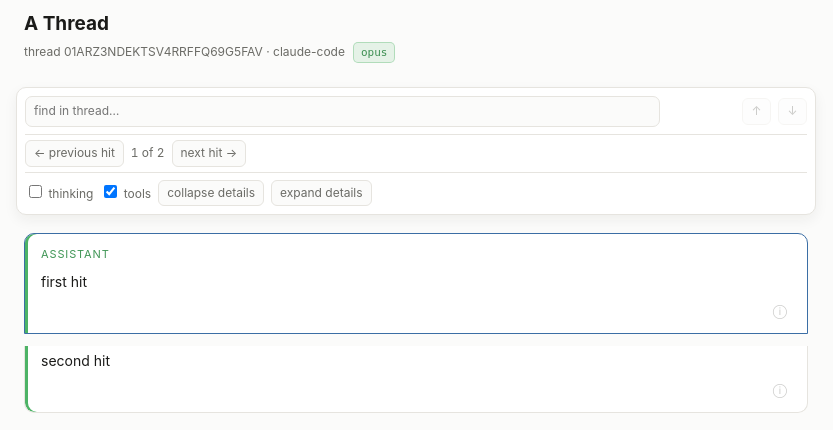
ThreadView › moves through the exact search-hit events carried by the result link
Expected: the text "1 of 2" is shown, [131,144,164,163]
Click the button "next hit →" at (209, 153), box [172,140,246,167]
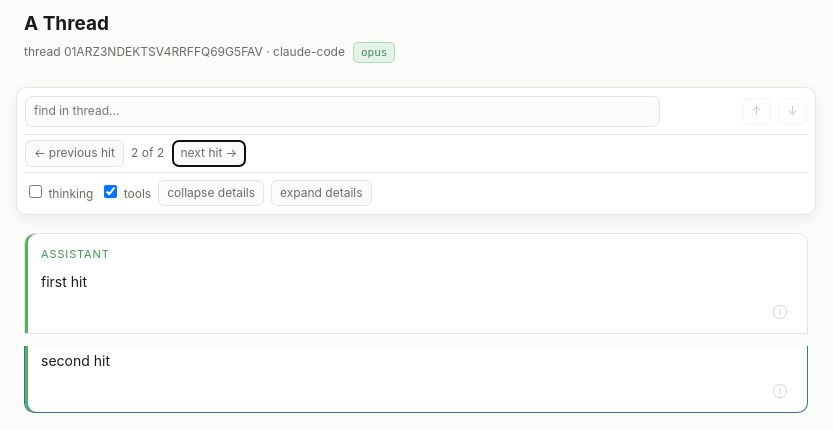
Expected: the text "2 of 2" is shown, [131,144,164,163]
